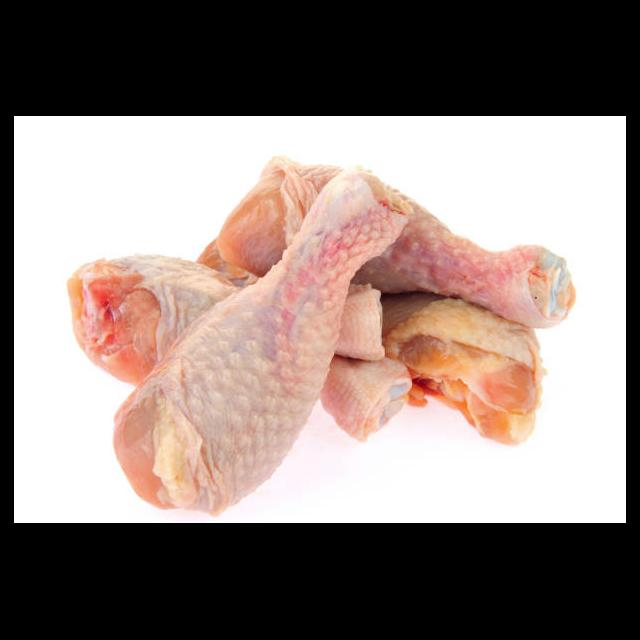chicken: (111, 168, 416, 518), (68, 254, 408, 448), (221, 154, 576, 332), (381, 296, 547, 452)
